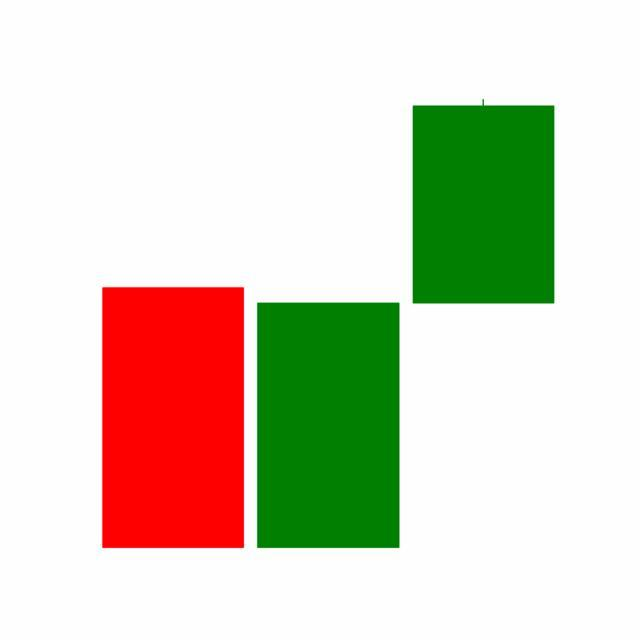Marubozu: (250, 301, 407, 552)
